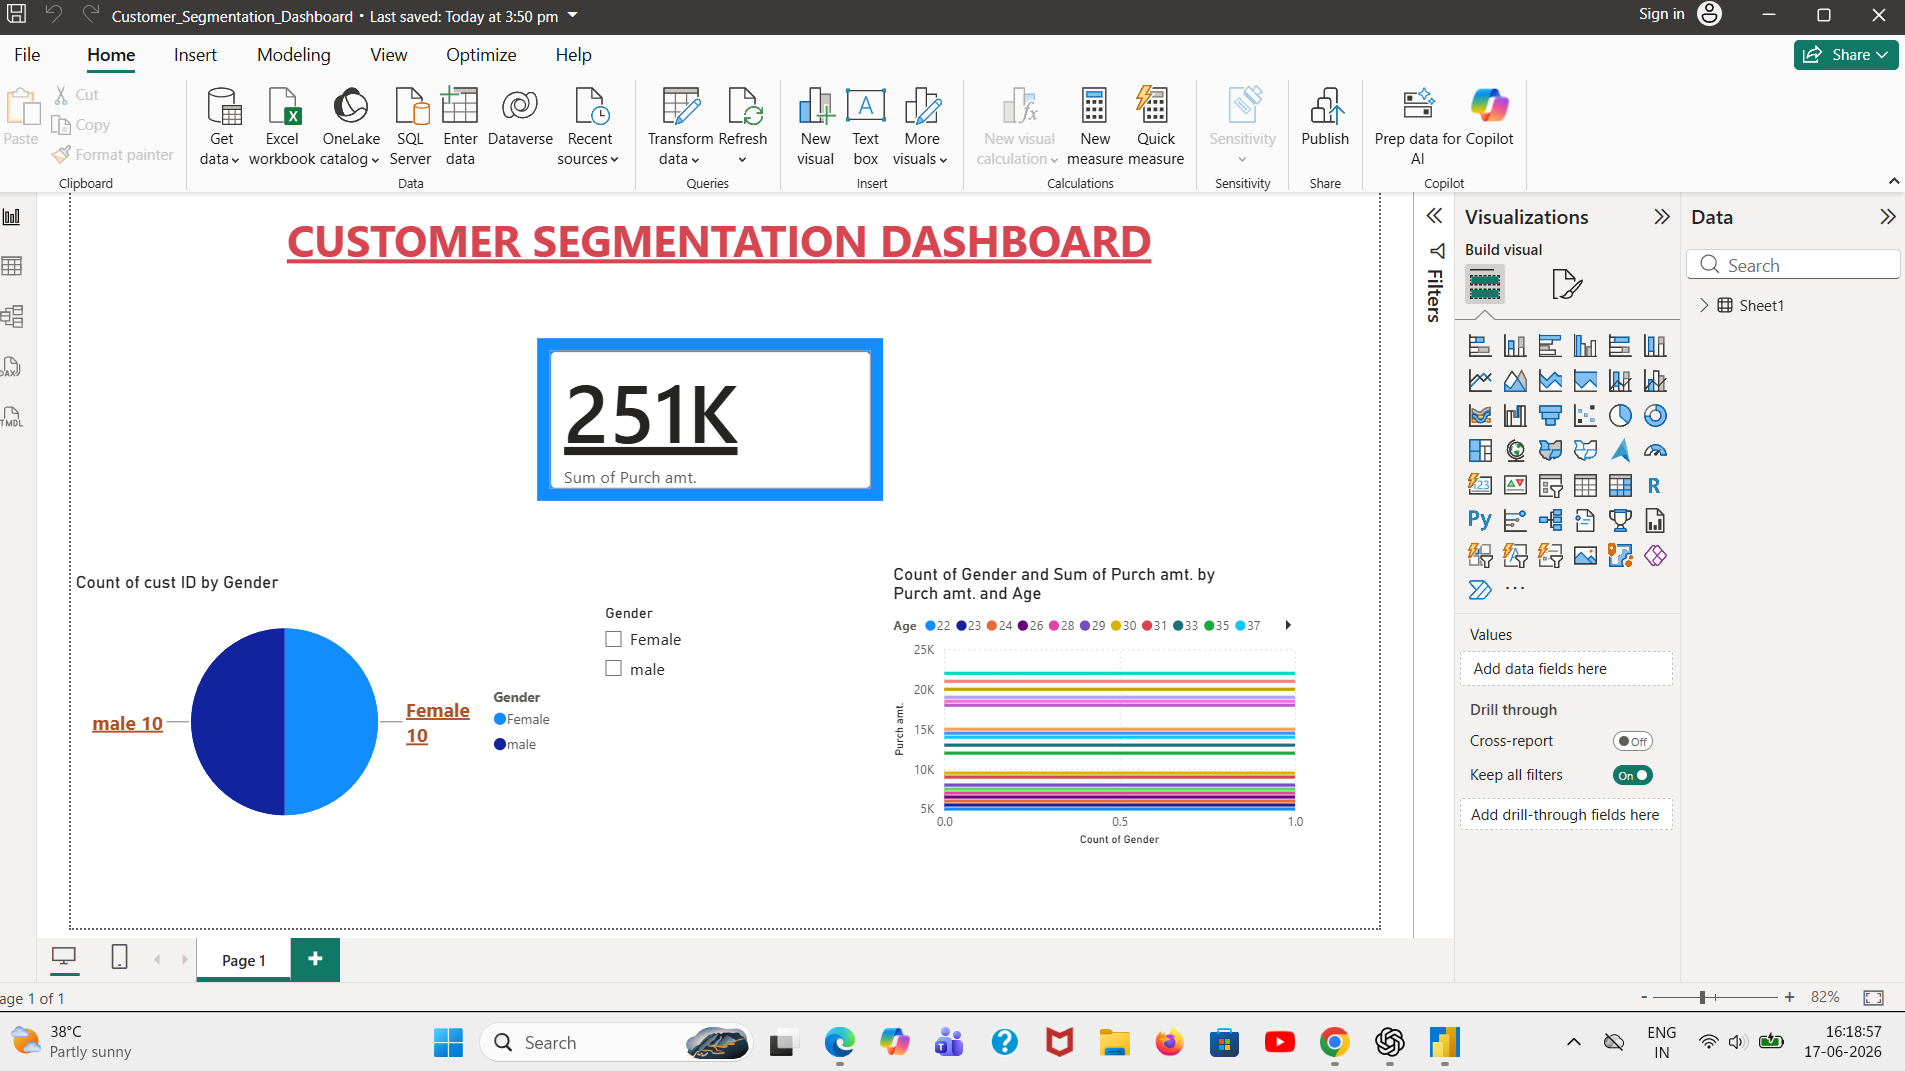

What the dashboard file says about the page in this screenshot:
{"tool":"powerbi","page":{"name":"Page 1","canvas":[1280,720],"ordinal":0},"visuals":[{"type":"pieChart","fields":{"Category":["Sheet1.Gender"],"Y":["CountNonNull(Sheet1.cust ID)"]},"box":[0,371.7,484.2,272.7],"z":0},{"type":"barChart","fields":{"Y":["CountNonNull(Sheet1.Gender)"],"Series":["Sheet1.Age"],"Category":["Sheet1.Purch amt."]},"box":[799.7,363.2,410.9,281.3],"z":2},{"type":"cardVisual","fields":{"Data":["Sum(Sheet1.Purch amt.)"]},"box":[451.2,138.2,348.5,170],"z":3},{"type":"slicer","fields":{"Values":["Sheet1.Gender"]},"box":[509.9,398.6,232.3,132.1],"z":4},{"type":"textbox","box":[15.9,12.2,1236.3,96.6],"z":5}]}

Visuals, with their boxes on the page's 1280x720 design canvas (x1, y1, x2, y2). These are canvas units, not pixel positions in the 1905x1071 screenshot, which may show the page scaled, cropped or inside an application window:
pieChart - Sheet1.Gender x CountNonNull(Sheet1.cust ID): rect(0, 372, 484, 644)
barChart - CountNonNull(Sheet1.Gender) x Sheet1.Age: rect(800, 363, 1211, 644)
cardVisual - Sum(Sheet1.Purch amt.): rect(451, 138, 800, 308)
slicer - Sheet1.Gender: rect(510, 399, 742, 531)
textbox: rect(16, 12, 1252, 109)
